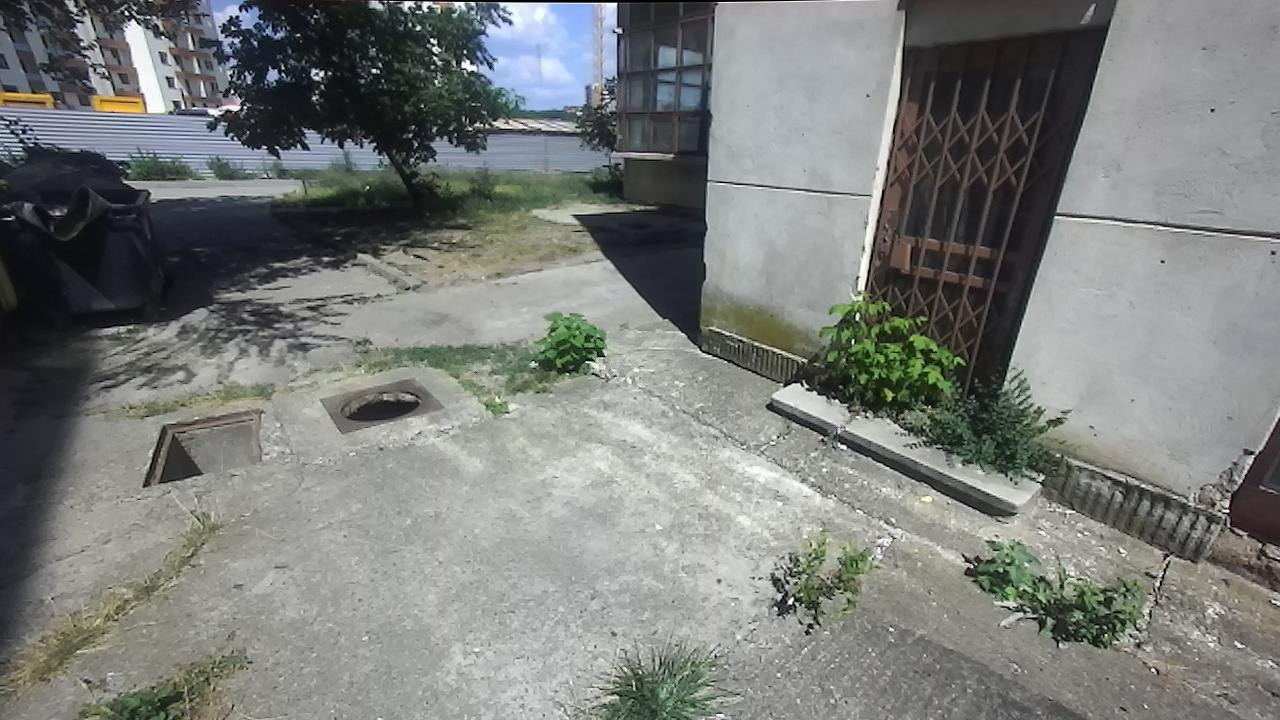drain: (137, 406, 264, 491), (334, 384, 426, 423)
